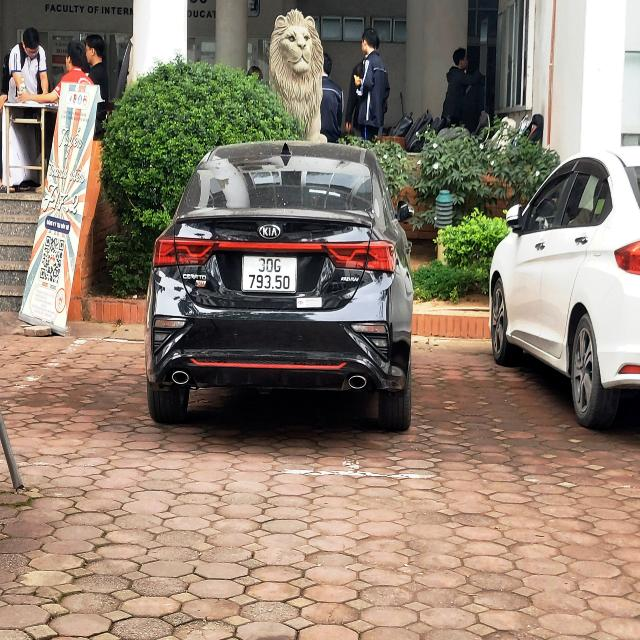license_plate: (243, 256, 298, 294)
